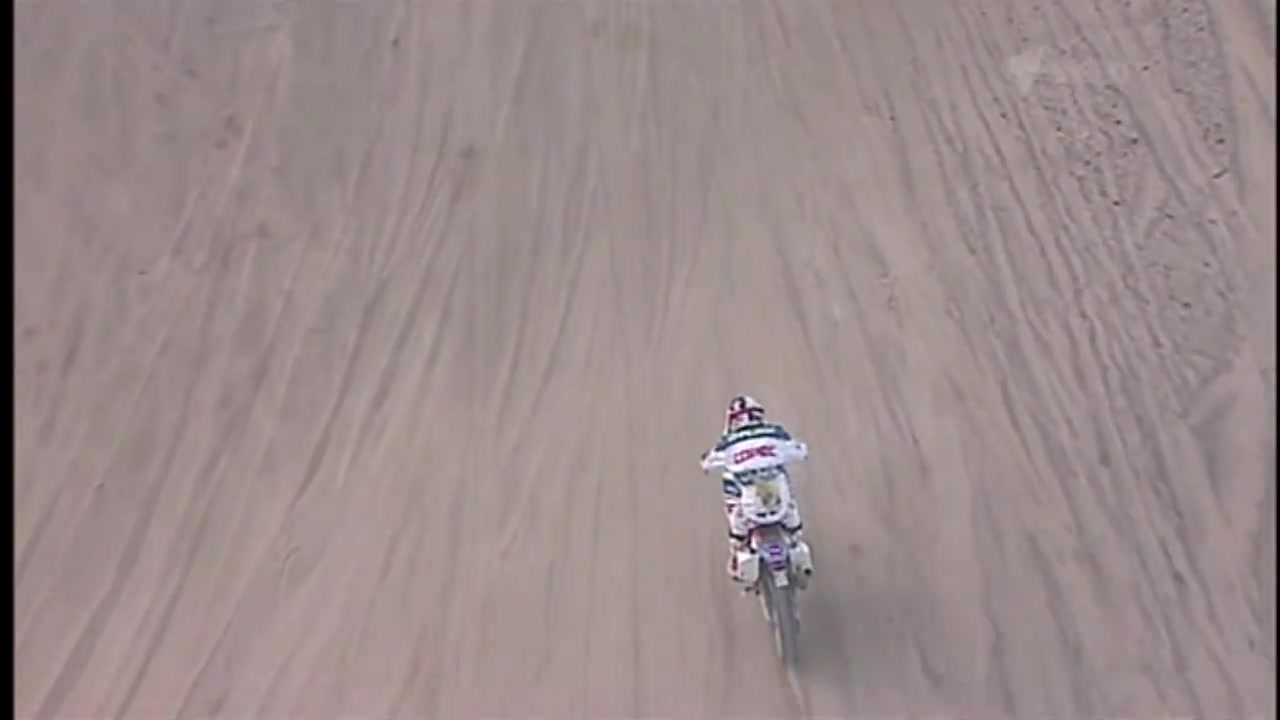motorbike: (703, 441, 816, 669)
